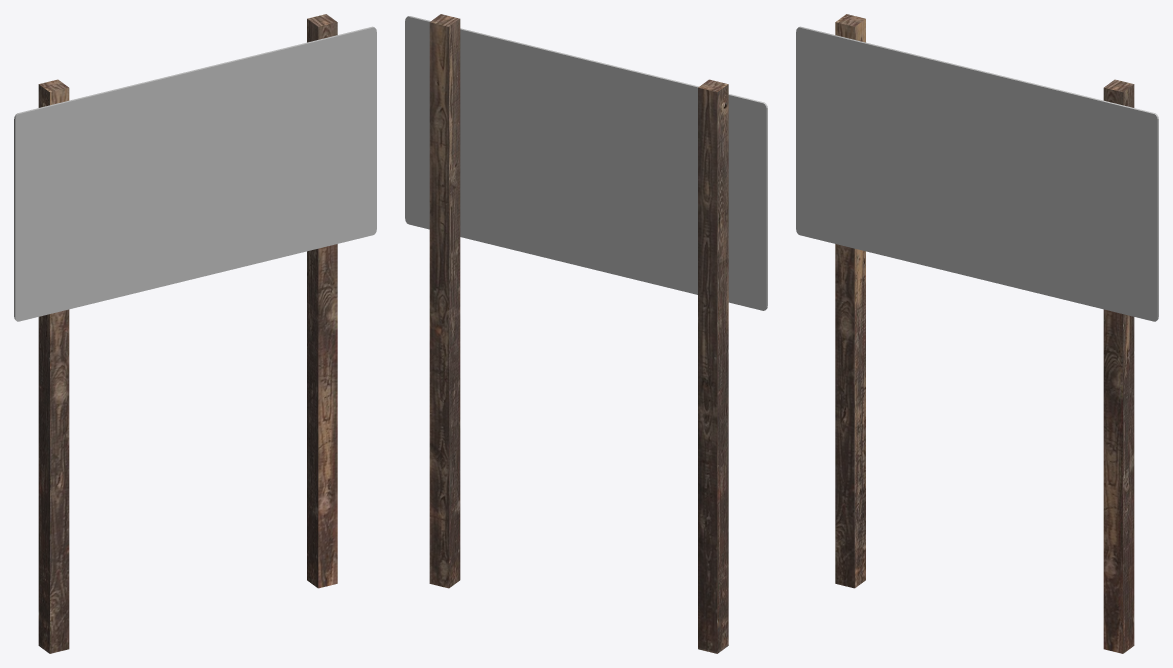
File: YOS_Sign_05.fbx
3 renders of one model, left to right at view 1: azimuth 30°, elevation 25°; view 2: azimuth 150°, elevation 25°; view 3: azimuth 330°, elevation 25°, orthographic.
Parts seen in each view (by area): view 1: Sign, WoodPost; view 2: Sign, WoodPost; view 3: Sign, WoodPost.
Boxes of the visible parts, x1,y1,x2,y2 form: Sign: (14, 26, 376, 321); WoodPost: (38, 14, 337, 653); Sign: (405, 16, 767, 310); WoodPost: (429, 14, 728, 653); Sign: (796, 26, 1158, 321); WoodPost: (835, 14, 1134, 653).
Size of the model in its own units: 135 by 200 by 8.75.
